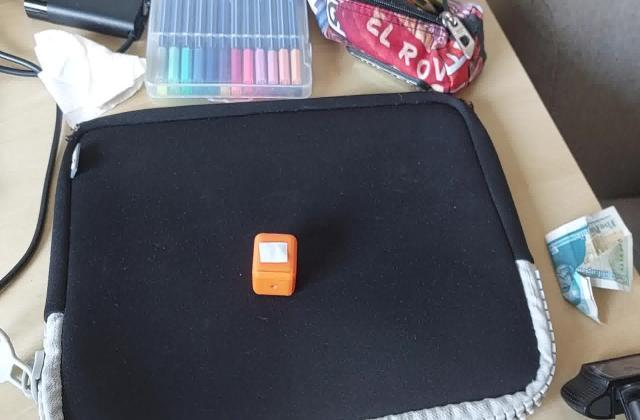sticker: (251, 233, 301, 298)
white: (257, 240, 292, 266)
